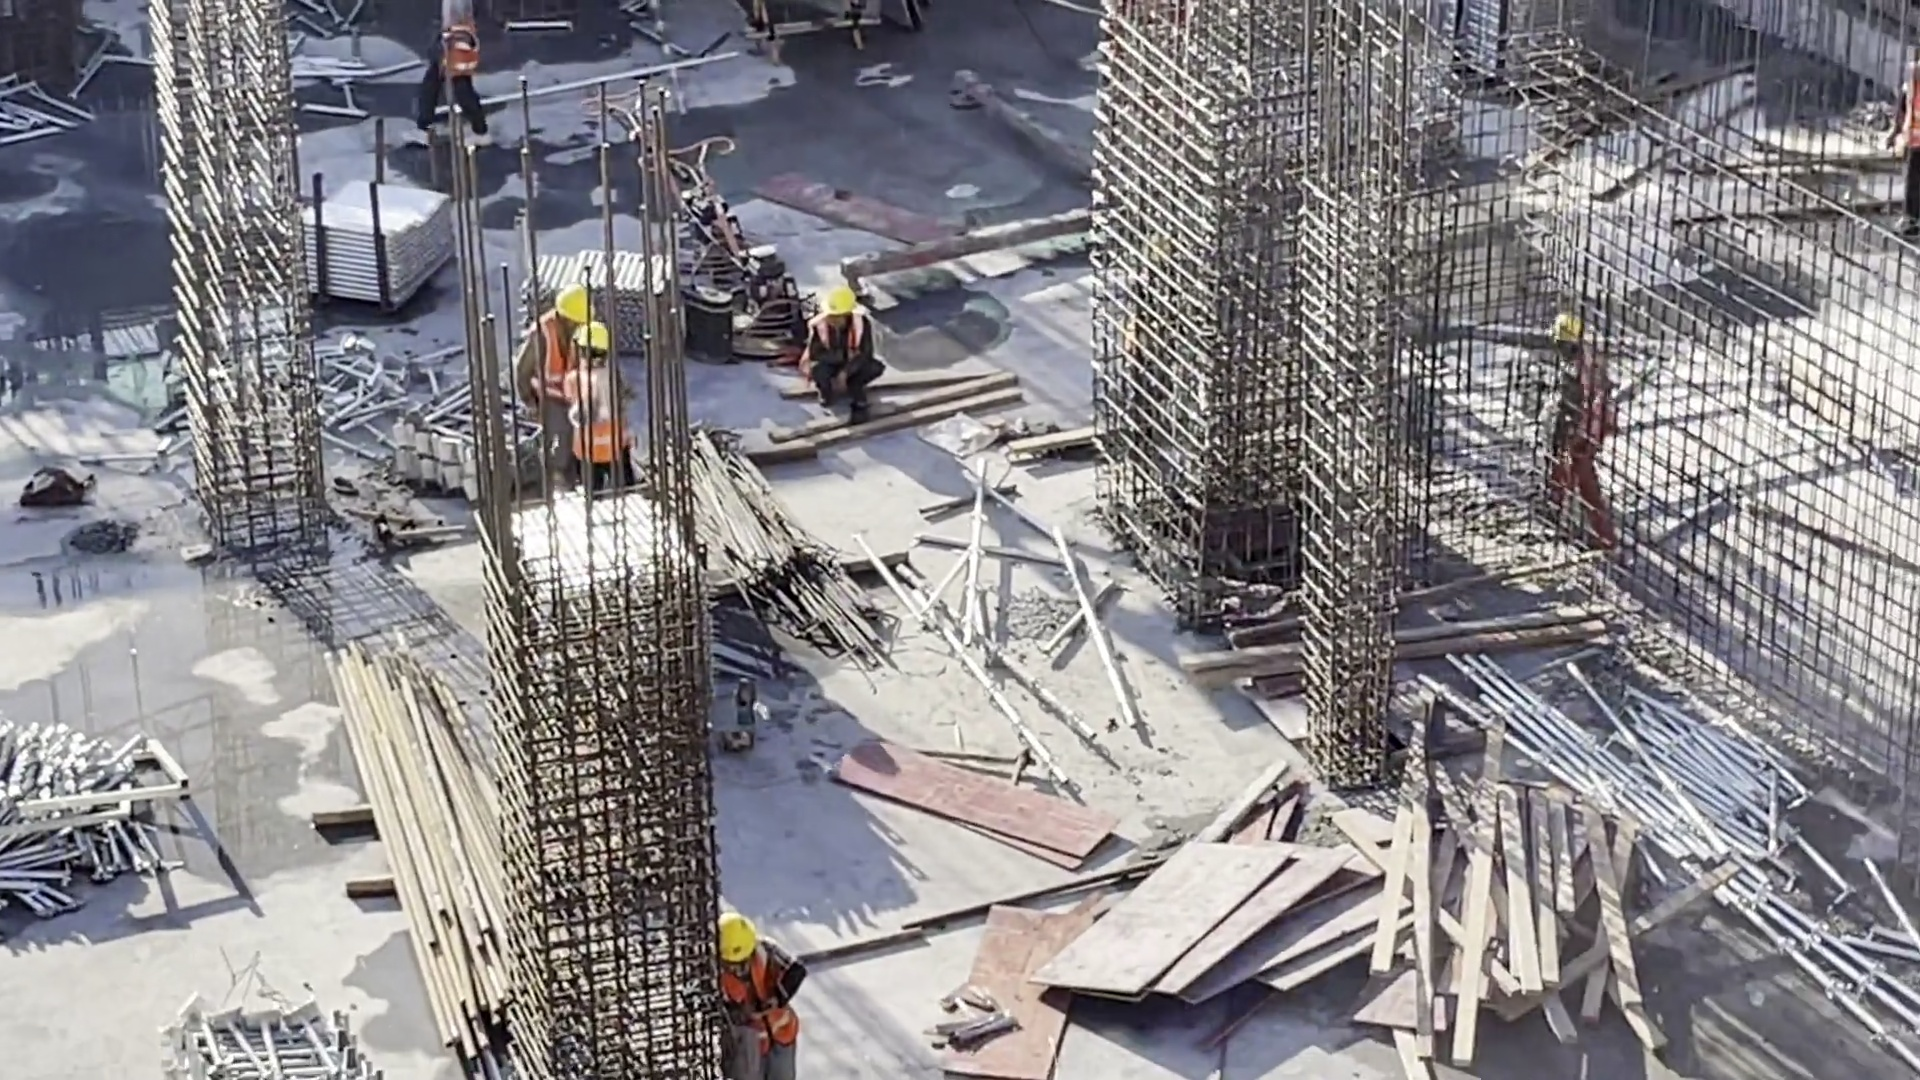helmet: (706, 908, 767, 958), (558, 323, 615, 363), (1548, 298, 1592, 341), (554, 289, 595, 327), (822, 280, 862, 316)
person: (1538, 274, 1647, 553), (699, 883, 845, 1080), (793, 265, 907, 445), (500, 272, 607, 464), (403, 1, 518, 158), (551, 322, 648, 501), (1885, 60, 1918, 256)
vest: (705, 955, 810, 1041), (567, 368, 639, 464), (794, 310, 886, 377), (1548, 356, 1619, 441), (528, 322, 589, 399), (439, 21, 495, 81), (1896, 83, 1920, 166)
